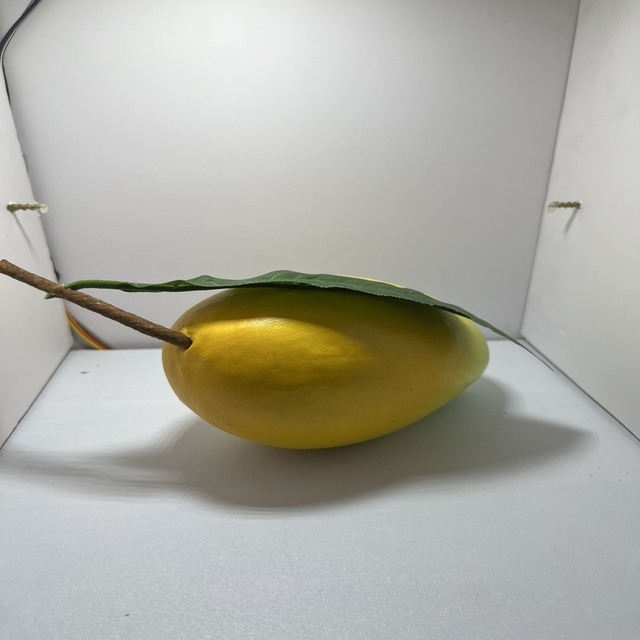Xoai: (153, 260, 508, 455)
